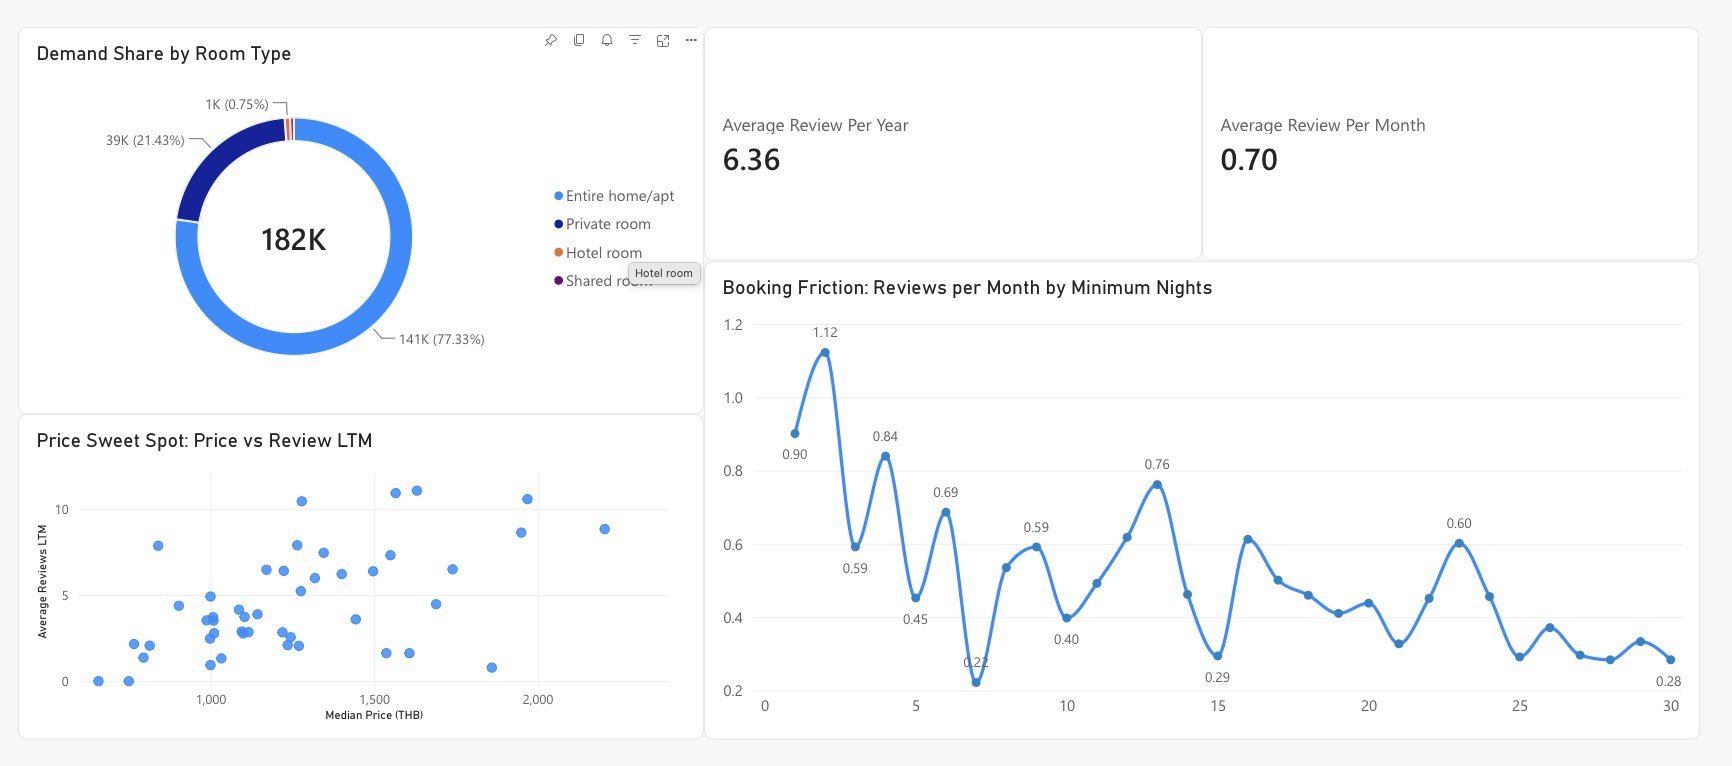

This screenshot's page, from the dashboard's own definition file:
{"tool":"powerbi","page":{"name":"Demand & Booking Friction","canvas":[1920,1080],"ordinal":1},"visuals":[{"type":"cardVisual","fields":{"Data":["Avg(fact_listings.number_of_reviews_ltm)"]},"box":[836.6,120.7,459.4,215.8],"z":0},{"type":"cardVisual","fields":{"Data":["Avg(fact_listings.reviews_per_month)"]},"box":[1296,120.7,458.4,215.8],"z":1000},{"type":"lineChart","title":"Booking Friction: Reviews per Month by Minimum Nights","fields":{"Category":["fact_listings.minimum_nights"],"Y":["Avg(fact_listings.reviews_per_month)"]},"box":[836.6,336.6,917.8,441.3],"z":2000},{"type":"donutChart","title":"Demand Share by Room Type","fields":{"Category":["dim_room_type.room_type_name"],"Y":["Sum(fact_listings.number_of_reviews_ltm)"]},"box":[204.8,120.8,631.5,356.9],"z":3000},{"type":"scatterChart","title":"Price Sweet Spot: Price vs Review LTM","fields":{"Category":["dim_neighbourhood.neighbourhood_name"],"X":["Median(fact_listings.price)"],"Y":["Avg(fact_listings.number_of_reviews_ltm)"]},"box":[204.8,477.6,631.5,300.2],"z":4000}]}

Visuals, with their boxes on the page's 1920x1080 design canvas (x1, y1, x2, y2). These are canvas units, not pixel positions in the 1732x766 screenshot, which may show the page scaled, cropped or inside an application window:
cardVisual - Avg(fact_listings.number_of_reviews_ltm): detection(837, 121, 1296, 336)
cardVisual - Avg(fact_listings.reviews_per_month): detection(1296, 121, 1754, 336)
"Booking Friction: Reviews per Month by Minimum Nights" lineChart: detection(837, 337, 1754, 778)
"Demand Share by Room Type" donutChart: detection(205, 121, 836, 478)
"Price Sweet Spot: Price vs Review LTM" scatterChart: detection(205, 478, 836, 778)
